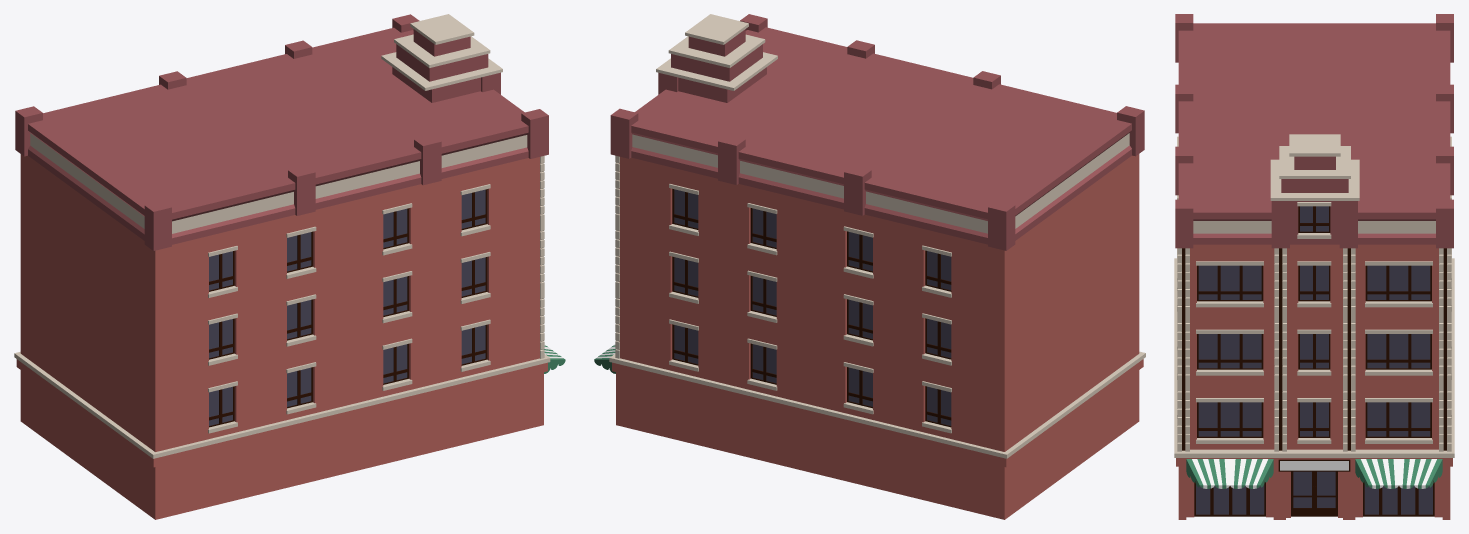
Rendered from Building7.fbx.
The picture shows the model from 3 angles, left to right: view 1: azimuth 30°, elevation 25°; view 2: azimuth 150°, elevation 25°; view 3: azimuth 270°, elevation 25°; orthographic projection.
Visible parts, largest first — view 1: Plane.062, Plane.058, Plane.059, Plane.060, Plane.061; view 2: Plane.062, Plane.058, Plane.060, Plane.059, Plane.061; view 3: Plane.062, Plane.058, Plane.059, Plane.060, Plane.061.
Boxes of the visible parts, x1=… form: Plane.062: x1=15, y1=14, x2=548, y2=250; Plane.058: x1=14, y1=345, x2=565, y2=519; Plane.059: x1=20, y1=286, x2=544, y2=451; Plane.060: x1=20, y1=218, x2=544, y2=384; Plane.061: x1=20, y1=154, x2=544, y2=316; Plane.062: x1=610, y1=14, x2=1144, y2=250; Plane.058: x1=594, y1=344, x2=1145, y2=519; Plane.060: x1=615, y1=218, x2=1139, y2=384; Plane.059: x1=615, y1=286, x2=1139, y2=451; Plane.061: x1=615, y1=154, x2=1139, y2=316; Plane.062: x1=1175, y1=14, x2=1453, y2=248; Plane.058: x1=1174, y1=258, x2=1454, y2=519; Plane.059: x1=1177, y1=282, x2=1451, y2=451; Plane.060: x1=1177, y1=248, x2=1451, y2=383; Plane.061: x1=1177, y1=136, x2=1451, y2=314.
Bounding box in the file's own units: 3282 × 2628 × 1858.
